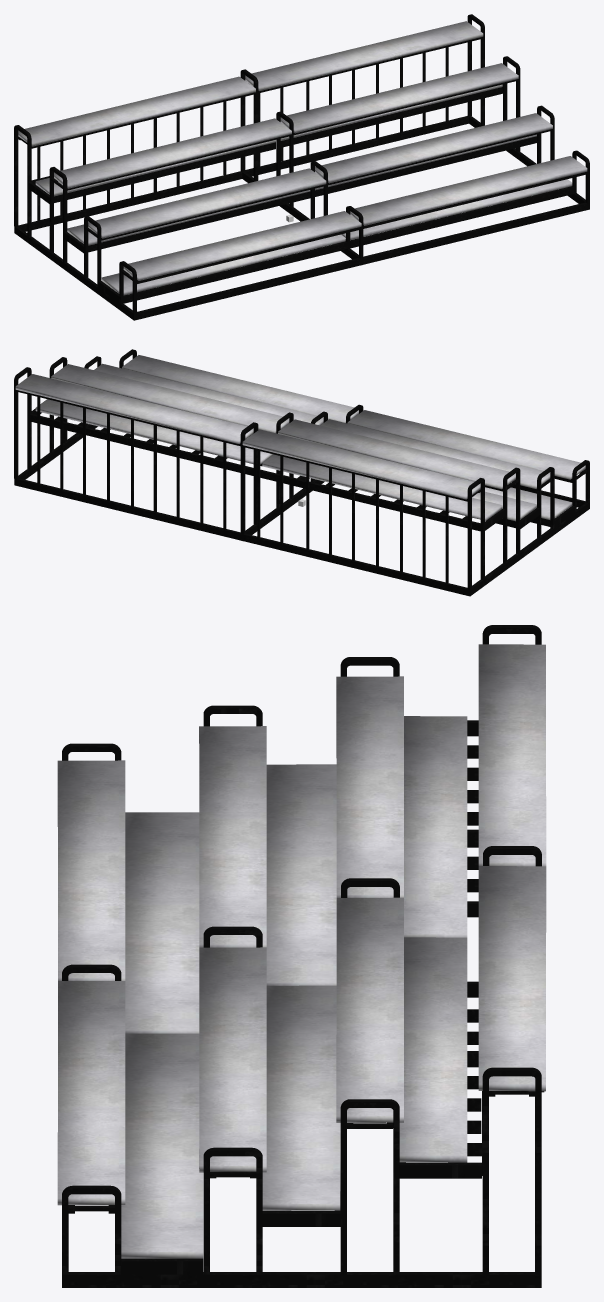
The model's file is gradas.glb.
The picture shows the model from 3 angles, top to bottom: view 1: azimuth 30°, elevation 25°; view 2: azimuth 150°, elevation 25°; view 3: azimuth 270°, elevation 25°; orthographic projection. The views are drawn at different scales.
Visible parts, largest first — view 1: Material2.004, Material2.003, Material2.005, Material2.002, Material2.001; view 2: Material2.004, Material2.005, Material2.003, Material2.002, Material2.001; view 3: Material2.004, Material2.005, Material2.002, Material2.003, Material2.001.
Boxes of the visible parts, left/top/right/bottom form: Material2.004: left=18, top=21, right=587, bottom=295; Material2.003: left=18, top=87, right=587, bottom=319; Material2.005: left=14, top=52, right=589, bottom=320; Material2.002: left=14, top=14, right=520, bottom=302; Material2.001: left=18, top=37, right=587, bottom=283; Material2.004: left=15, top=355, right=585, bottom=521; Material2.005: left=14, top=349, right=589, bottom=596; Material2.003: left=17, top=414, right=585, bottom=595; Material2.002: left=14, top=357, right=575, bottom=589; Material2.001: left=16, top=390, right=587, bottom=501; Material2.004: left=57, top=644, right=546, bottom=1258; Material2.005: left=62, top=705, right=544, bottom=1287; Material2.002: left=121, top=625, right=541, bottom=1274; Material2.003: left=68, top=745, right=535, bottom=1271; Material2.001: left=68, top=1091, right=535, bottom=1213.
Size of the model in its own units: 197 by 45.92 by 91.14.
Materials: 7 (6 with a texture image).
